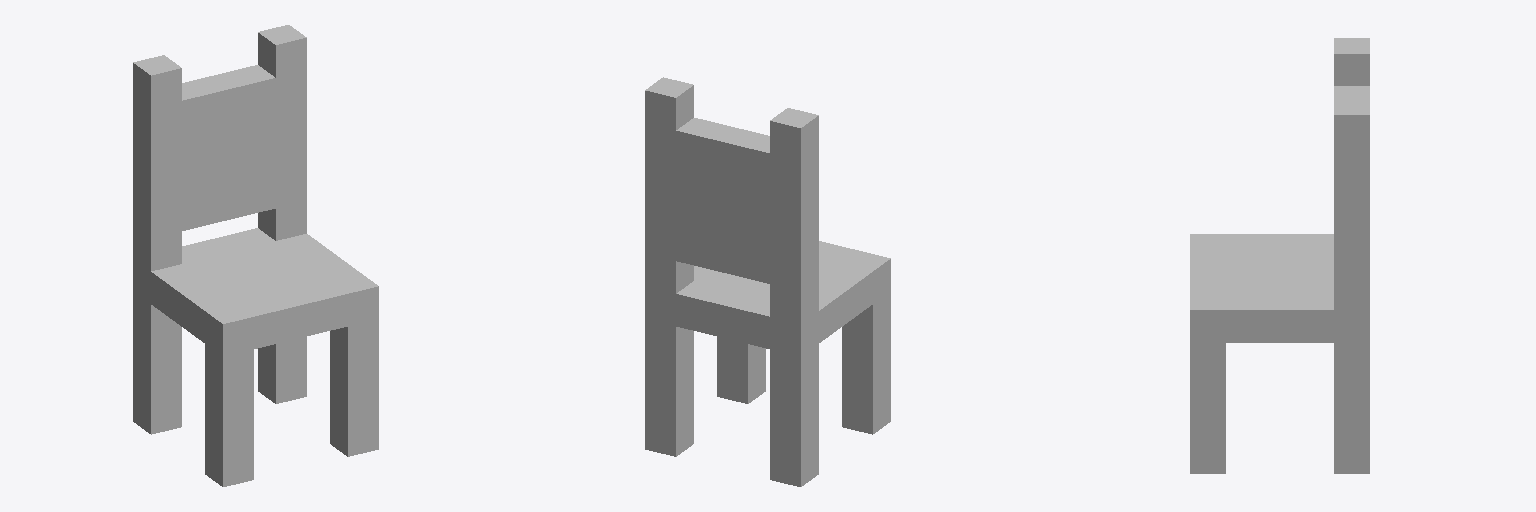
The model's file is chair.obj.
The picture shows the model from 3 angles: view 1: azimuth 30°, elevation 25°; view 2: azimuth 150°, elevation 25°; view 3: azimuth 270°, elevation 25°; orthographic projection.
Visible parts, largest first — view 1: object 1; view 2: object 1; view 3: object 1.
Part boxes in pixels (left/top/right/bottom): object 1: left=133, top=25, right=378, bottom=486; object 1: left=645, top=77, right=890, bottom=486; object 1: left=1190, top=38, right=1369, bottom=473.
Bounding box in the file's own units: 0.5 × 1.1 × 0.5.